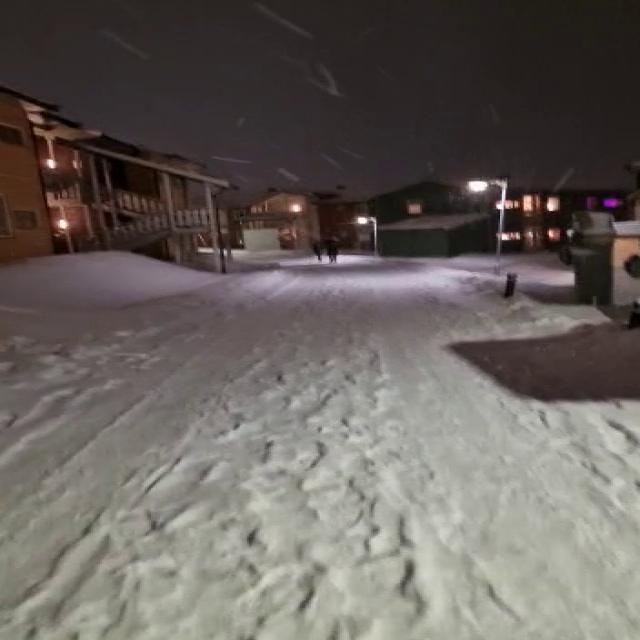path: (0, 248, 640, 640)
